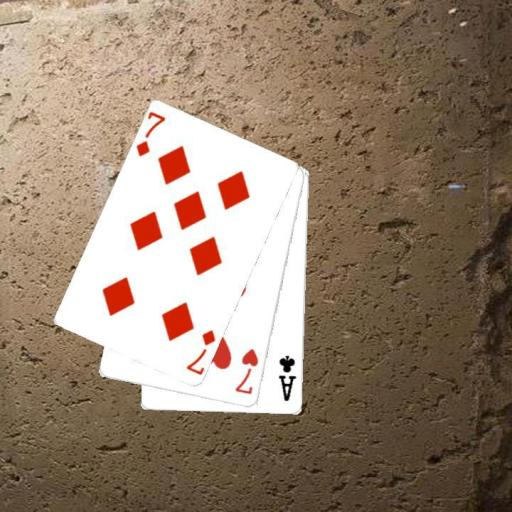7D: (183, 327, 218, 377), (134, 110, 167, 160)
7H: (232, 346, 260, 397)
AC: (276, 353, 298, 403)
